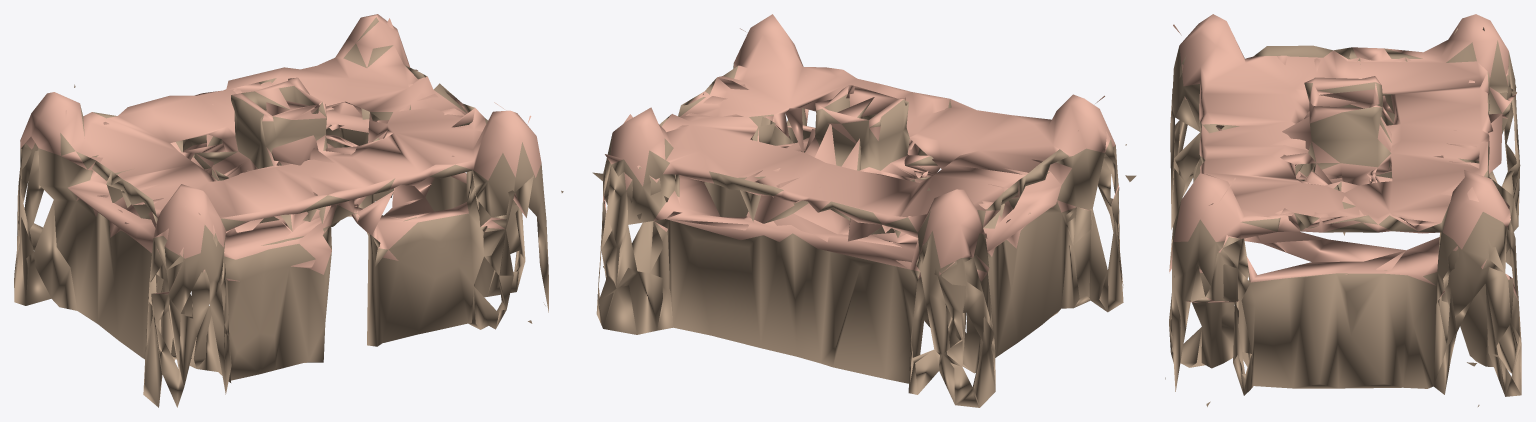
Rendered from monumento_e.glb.
The picture shows the model from 3 angles, left to right: view 1: azimuth 30°, elevation 25°; view 2: azimuth 150°, elevation 25°; view 3: azimuth 270°, elevation 25°; orthographic projection. The views are drawn at different scales.
Parts seen in each view (by area): view 1: monumento_e; view 2: monumento_e; view 3: monumento_e.
Part boxes in pixels (x1=…): monumento_e: x1=14, y1=14, x2=563, y2=407; monumento_e: x1=592, y1=14, x2=1136, y2=407; monumento_e: x1=1165, y1=14, x2=1521, y2=406.
Bounding box in the file's own units: 21.79 × 10.82 × 16.07.
